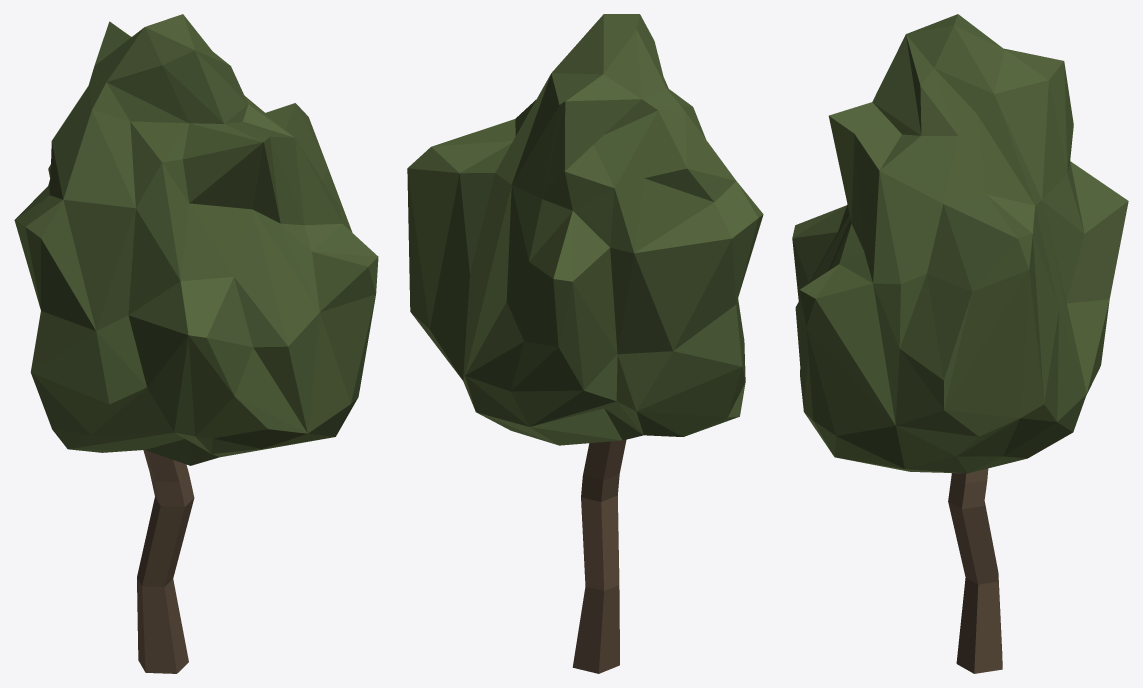
Rendered from Tree_23.gltf.
The picture shows the model from 3 angles, left to right: view 1: azimuth 30°, elevation 25°; view 2: azimuth 150°, elevation 25°; view 3: azimuth 270°, elevation 25°; orthographic projection. The views are drawn at different scales.
Visible parts, largest first — view 1: Tree_23; view 2: Tree_23; view 3: Tree_23.
Boxes of the visible parts, x1,y1,x2,y2 form: Tree_23: (14, 14, 378, 673); Tree_23: (407, 14, 763, 673); Tree_23: (792, 14, 1128, 673).
Size of the model in its own units: 0.4686 by 0.886 by 0.4217.
Materials: 1 (1 with a texture image).
